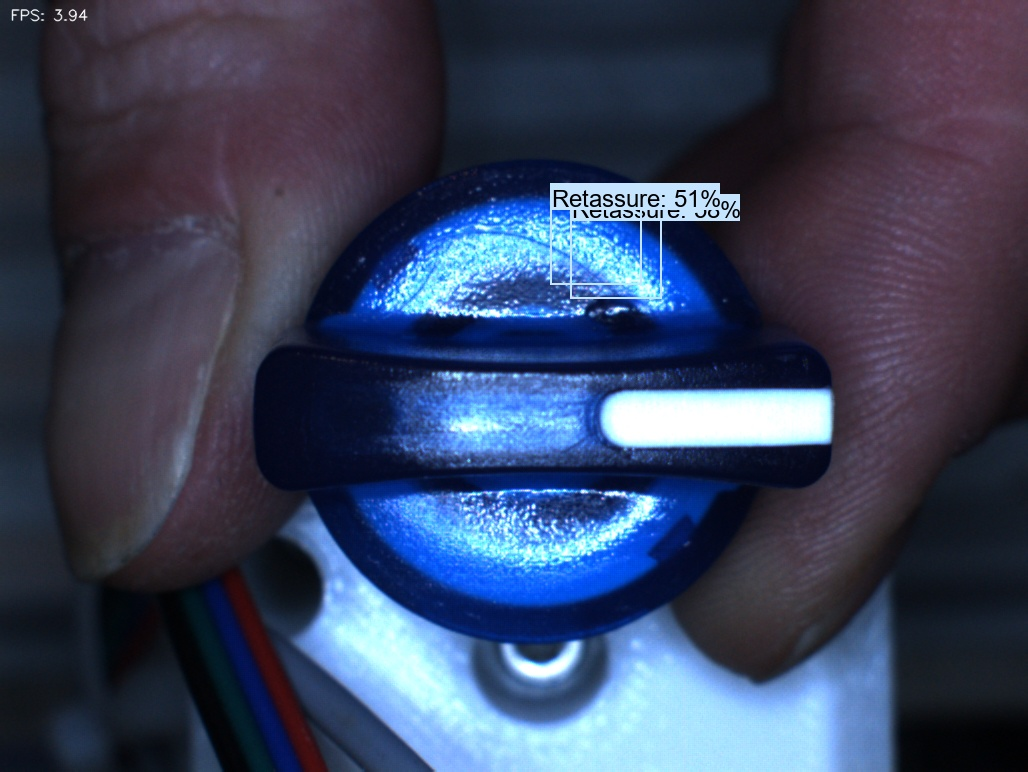Choc: (580, 279, 652, 351)
